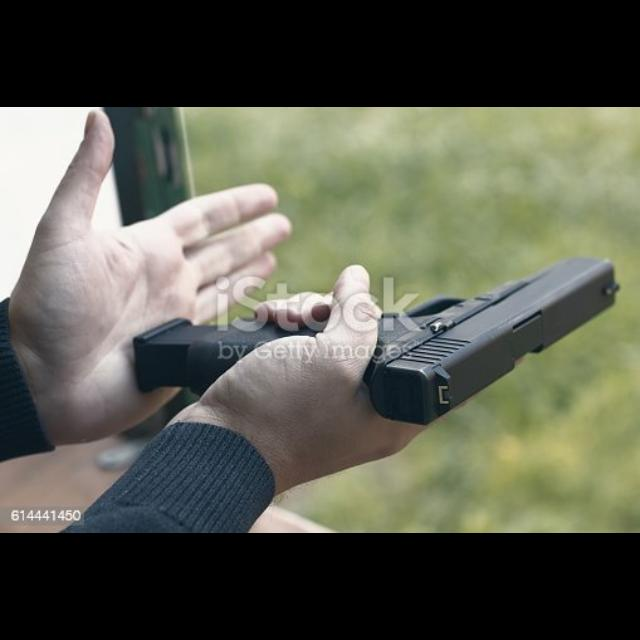handgun: (349, 250, 626, 430)
